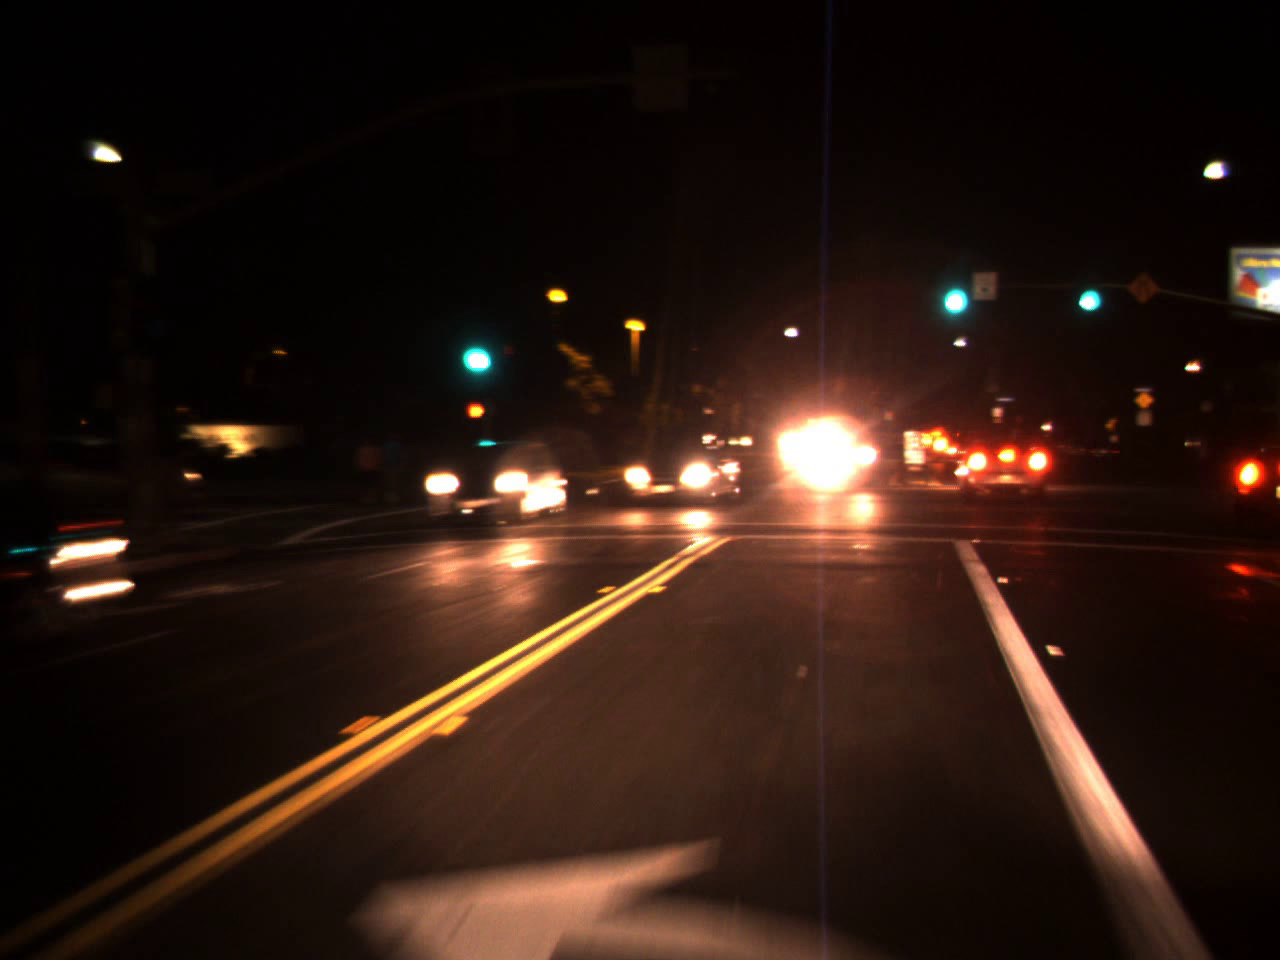go: (450, 314, 498, 383), (934, 255, 973, 324), (1070, 265, 1106, 319)
